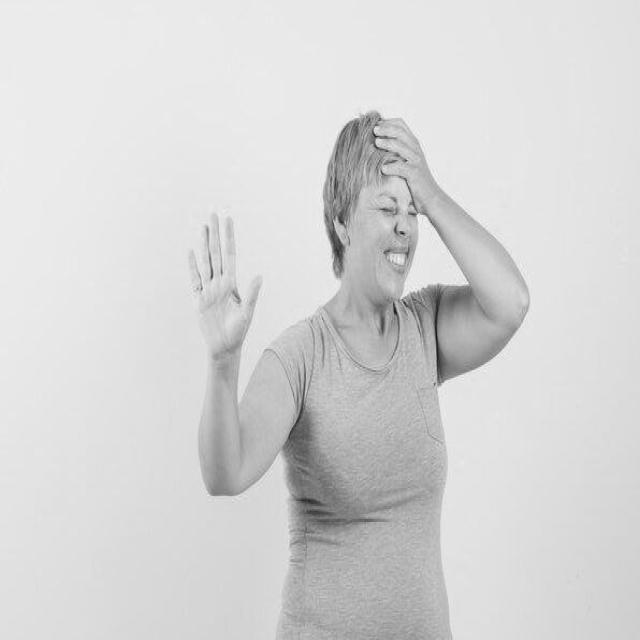stop: (183, 205, 266, 372)
